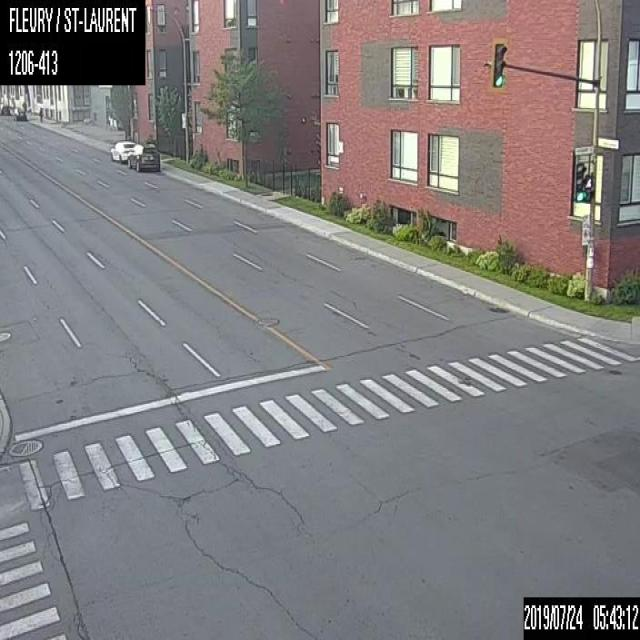vehicle: (126, 141, 159, 171), (110, 140, 134, 162), (12, 107, 25, 120)
